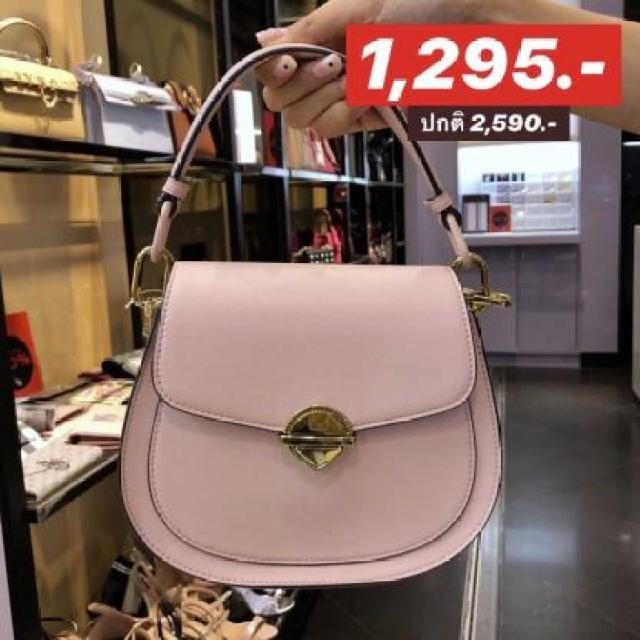Bag: (41, 3, 532, 611)
